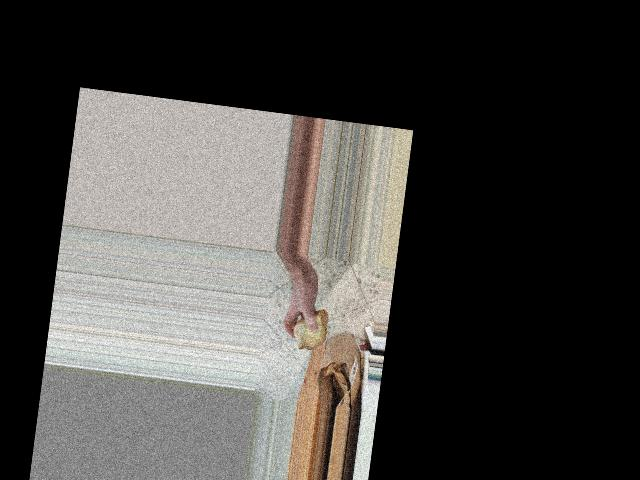onion: (287, 304, 331, 353)
